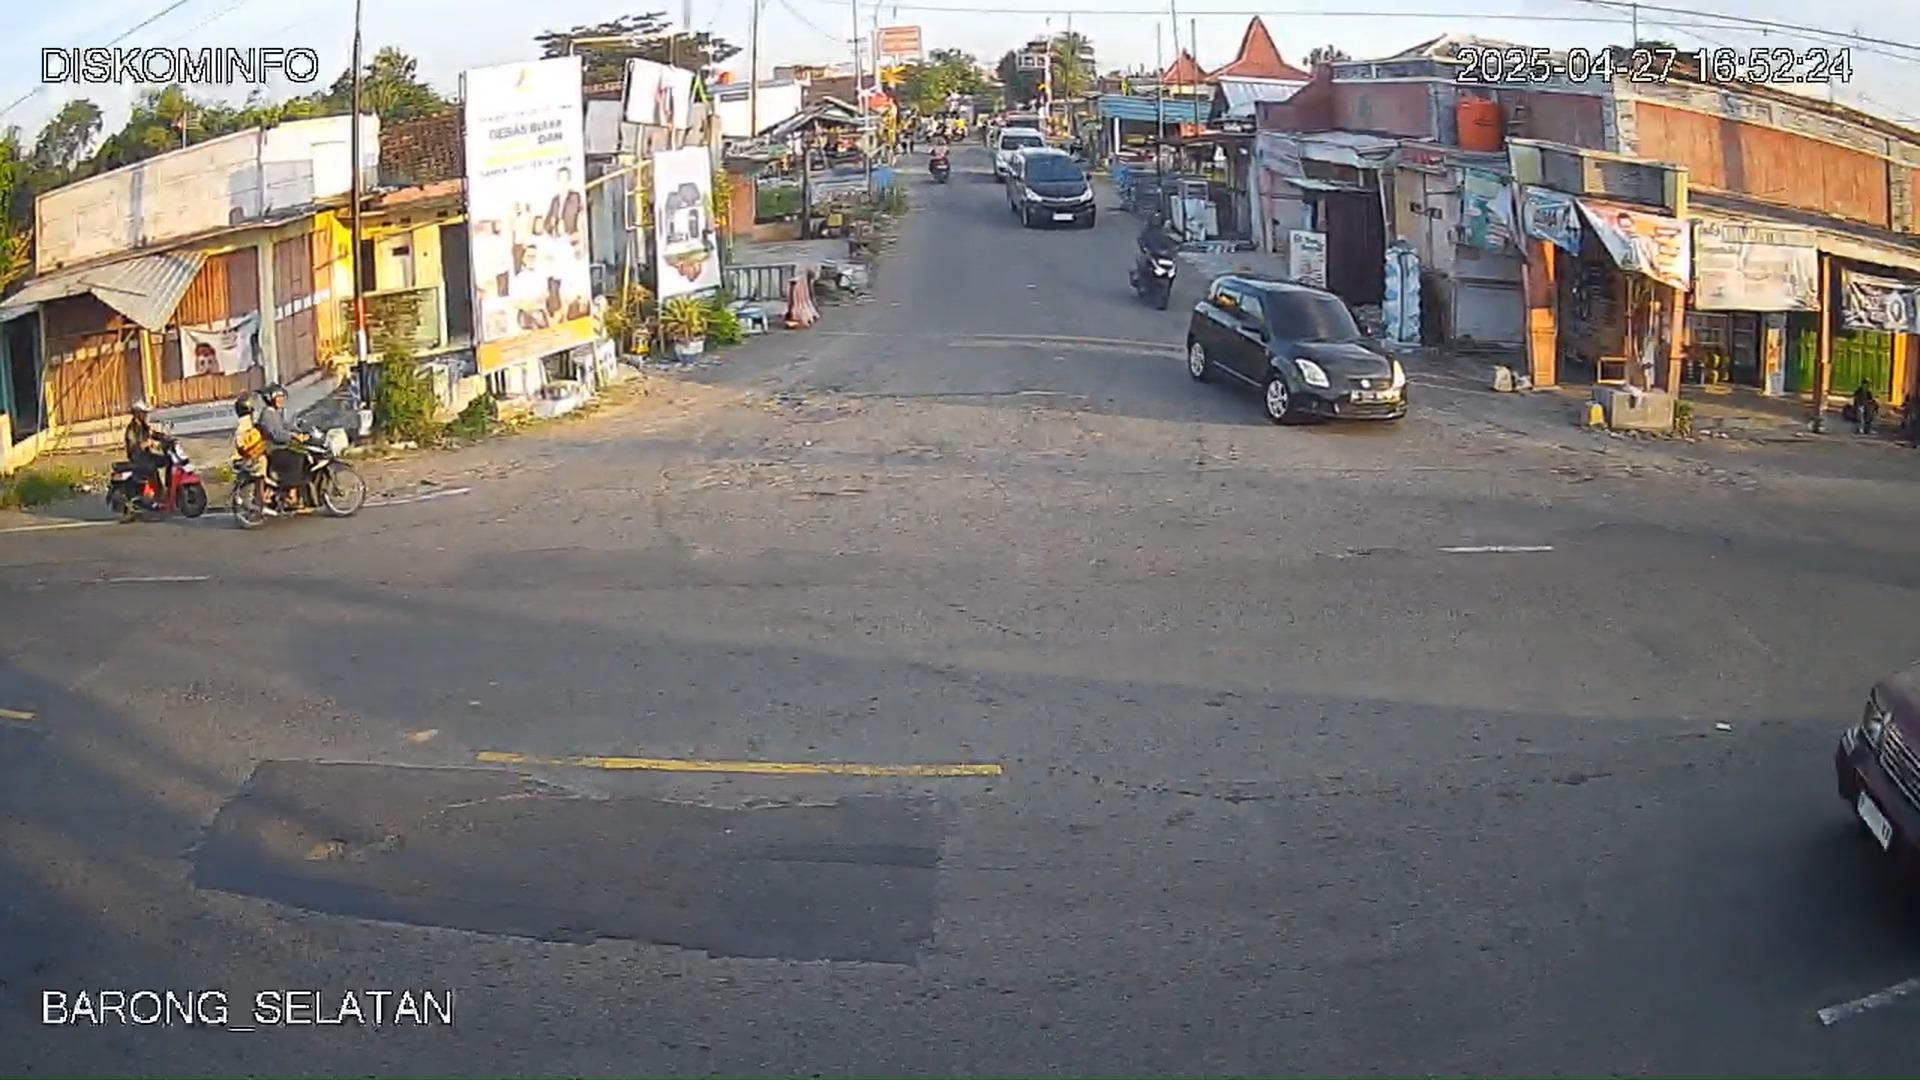Motor: (233, 422, 369, 526), (108, 430, 214, 524)
mobil: (1183, 270, 1400, 423), (1832, 651, 1920, 931), (1001, 148, 1097, 231)
